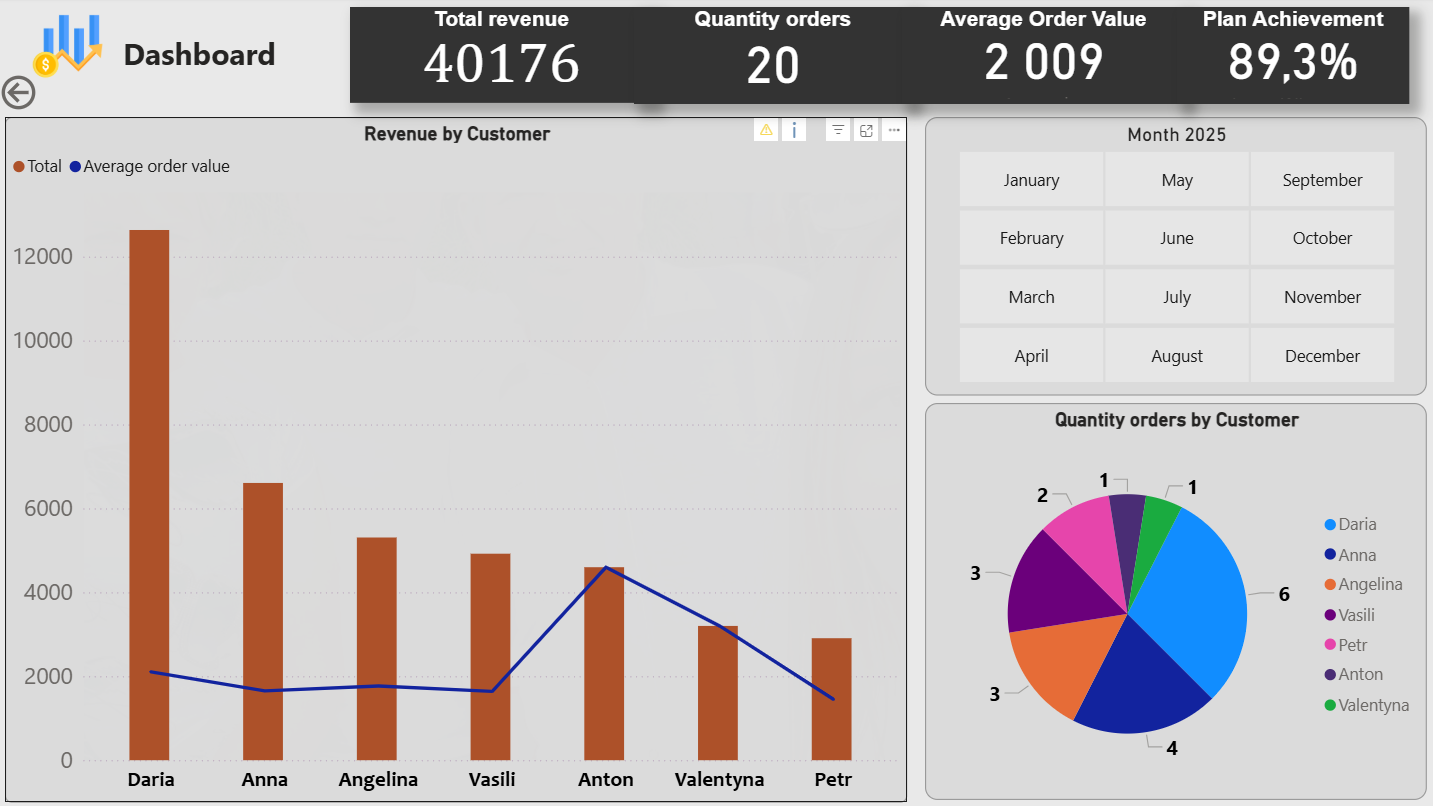

What the dashboard file says about the page in this screenshot:
{"tool":"powerbi","page":{"name":"Страница 2","canvas":[1280,720],"ordinal":1},"visuals":[{"type":"lineStackedColumnComboChart","title":"Revenue by Customer","fields":{"Y":["Dax.Сума продаж"],"Category":["people.name"],"Y2":["Dax.Середній чек"]},"box":[8,106,800,608],"z":0},{"type":"card","title":"Total revenue","fields":{"Values":["Dax.Сума продаж"]},"box":[329.9,9,268.7,85.1],"z":1000,"group":"g1"},{"type":"image","box":[27.8,2.1,72,84.4],"z":1000},{"type":"card","title":" Quantity orders","fields":{"Values":["Dax.К-в"]},"box":[582,8.9,246.4,85.6],"z":2000,"group":"g1"},{"type":"actionButton","box":[0,64.7,100.2,39.9],"z":2000},{"type":"card","title":"Average Order Value","fields":{"Values":["Dax.Середній чек"]},"box":[819.4,8.9,251.3,85.6],"z":3000,"group":"g1"},{"type":"pieChart","title":"Quantity orders by Customer","fields":{"Y":["Dax.К-в"],"Category":["people.name"]},"box":[824,360,445,352],"z":3000},{"type":"textbox","box":[99.8,26.8,214,58.6],"z":4000},{"type":"slicer","title":"Month 2025    ","fields":{"Values":["Calendar.MonthName_EN"]},"box":[824,106,445,247],"z":6000},{"type":"card","title":"Plan Achievement","fields":{"Values":["Dax.Plan Fulfillment %"]},"box":[1063.4,8.9,205.6,86.4],"z":7002,"group":"g1"},{"type":"group","id":"g1","title":"Группа 1","box":[329.9,8.9,939,86.9],"z":7003}]}

Visuals, with their boxes in screenshot pixels (x1, y1, x2, y2), scaled from the page's 1280x720 canvas onto the 1434x806 screenshot:
"Revenue by Customer" lineStackedColumnComboChart: crop(9, 119, 905, 799)
"Total revenue" card: crop(370, 10, 671, 105)
image: crop(31, 2, 112, 97)
" Quantity orders" card: crop(652, 10, 928, 106)
actionButton: crop(0, 72, 112, 117)
"Average Order Value" card: crop(918, 10, 1200, 106)
"Quantity orders by Customer" pieChart: crop(923, 403, 1422, 797)
textbox: crop(112, 30, 352, 96)
"Month 2025    " slicer: crop(923, 119, 1422, 395)
"Plan Achievement" card: crop(1191, 10, 1422, 107)
"Группа 1" group: crop(370, 10, 1422, 107)
